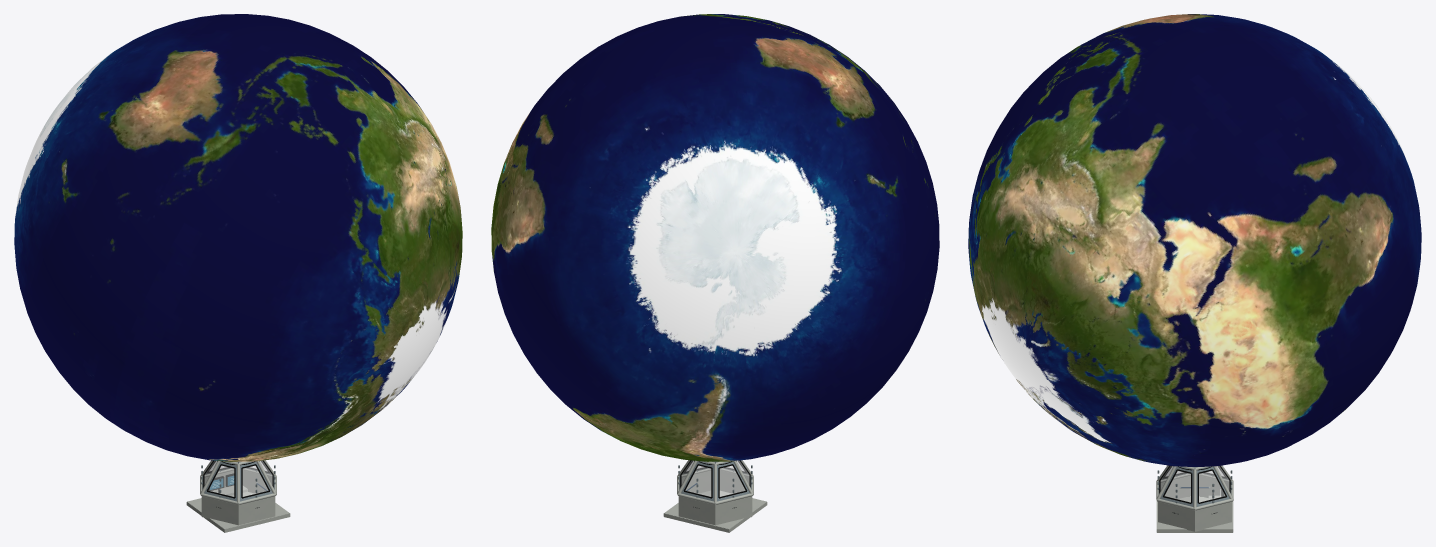
The model's file is cupola.glb.
The picture shows the model from 3 angles, left to right: view 1: azimuth 30°, elevation 25°; view 2: azimuth 150°, elevation 25°; view 3: azimuth 270°, elevation 25°; orthographic projection.
Visible parts, largest first — view 1: Earth presentation background, cupola_detailed; view 2: Earth presentation background, cupola_detailed; view 3: Earth presentation background, cupola_detailed.
Part boxes in pixels (x1,y1,x2,y2): Earth presentation background: (14, 14, 462, 461); cupola_detailed: (186, 460, 290, 532); Earth presentation background: (491, 14, 939, 461); cupola_detailed: (663, 460, 767, 532); Earth presentation background: (968, 14, 1421, 466); cupola_detailed: (1156, 465, 1233, 532).
Bounding box in the file's own units: 12.99 × 15.24 × 12.99.
Materials: 9 (4 with a texture image).
